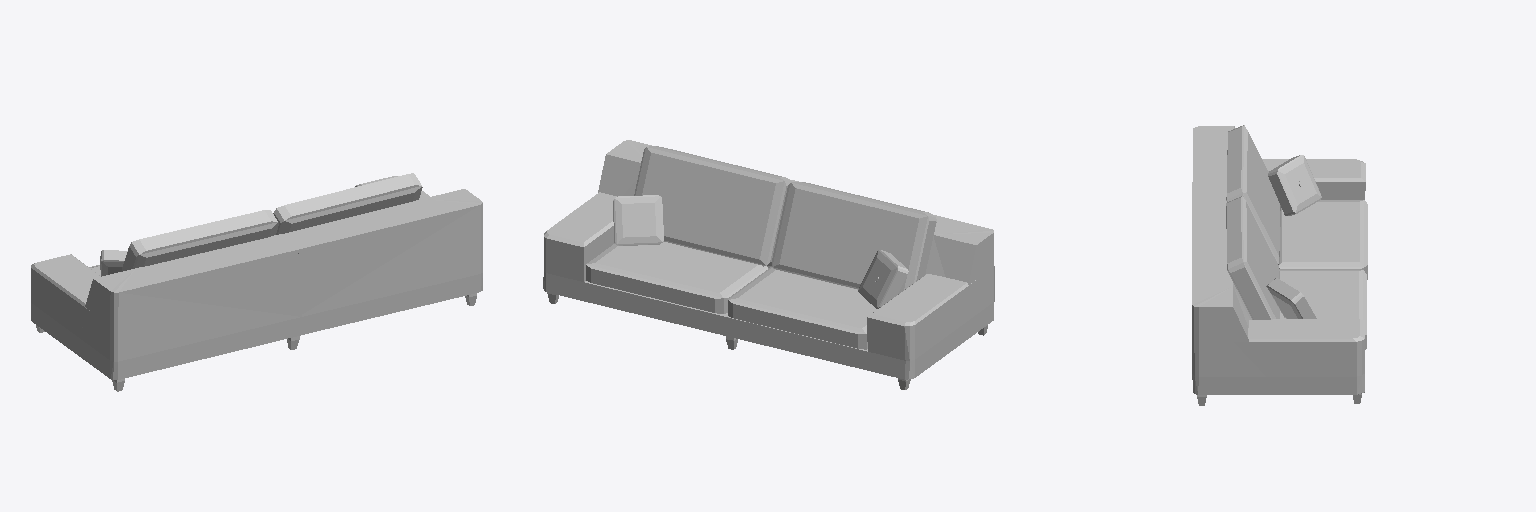
The model's file is Long_Couch.obj.
3 views of the same model, side by side, from view 1: azimuth 30°, elevation 25°; view 2: azimuth 150°, elevation 25°; view 3: azimuth 270°, elevation 25° (orthographic).
Size of the model in its own units: 1.57 by 0.5129 by 0.6435.